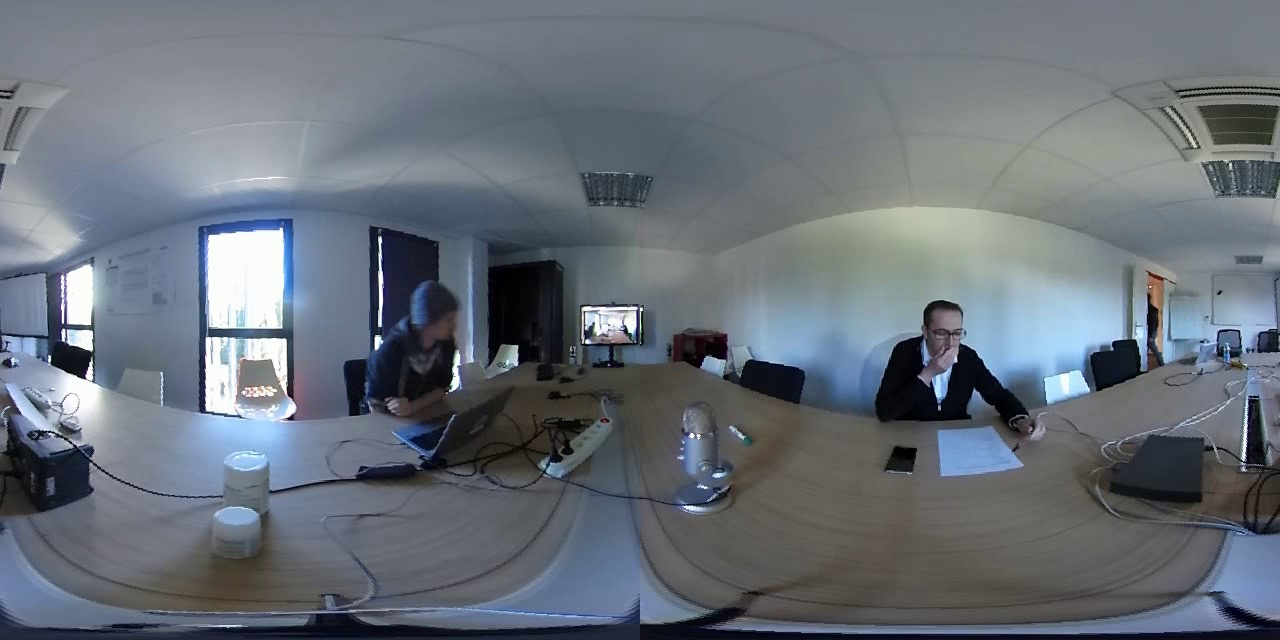person: (876, 286, 1023, 435), (356, 268, 499, 412)
